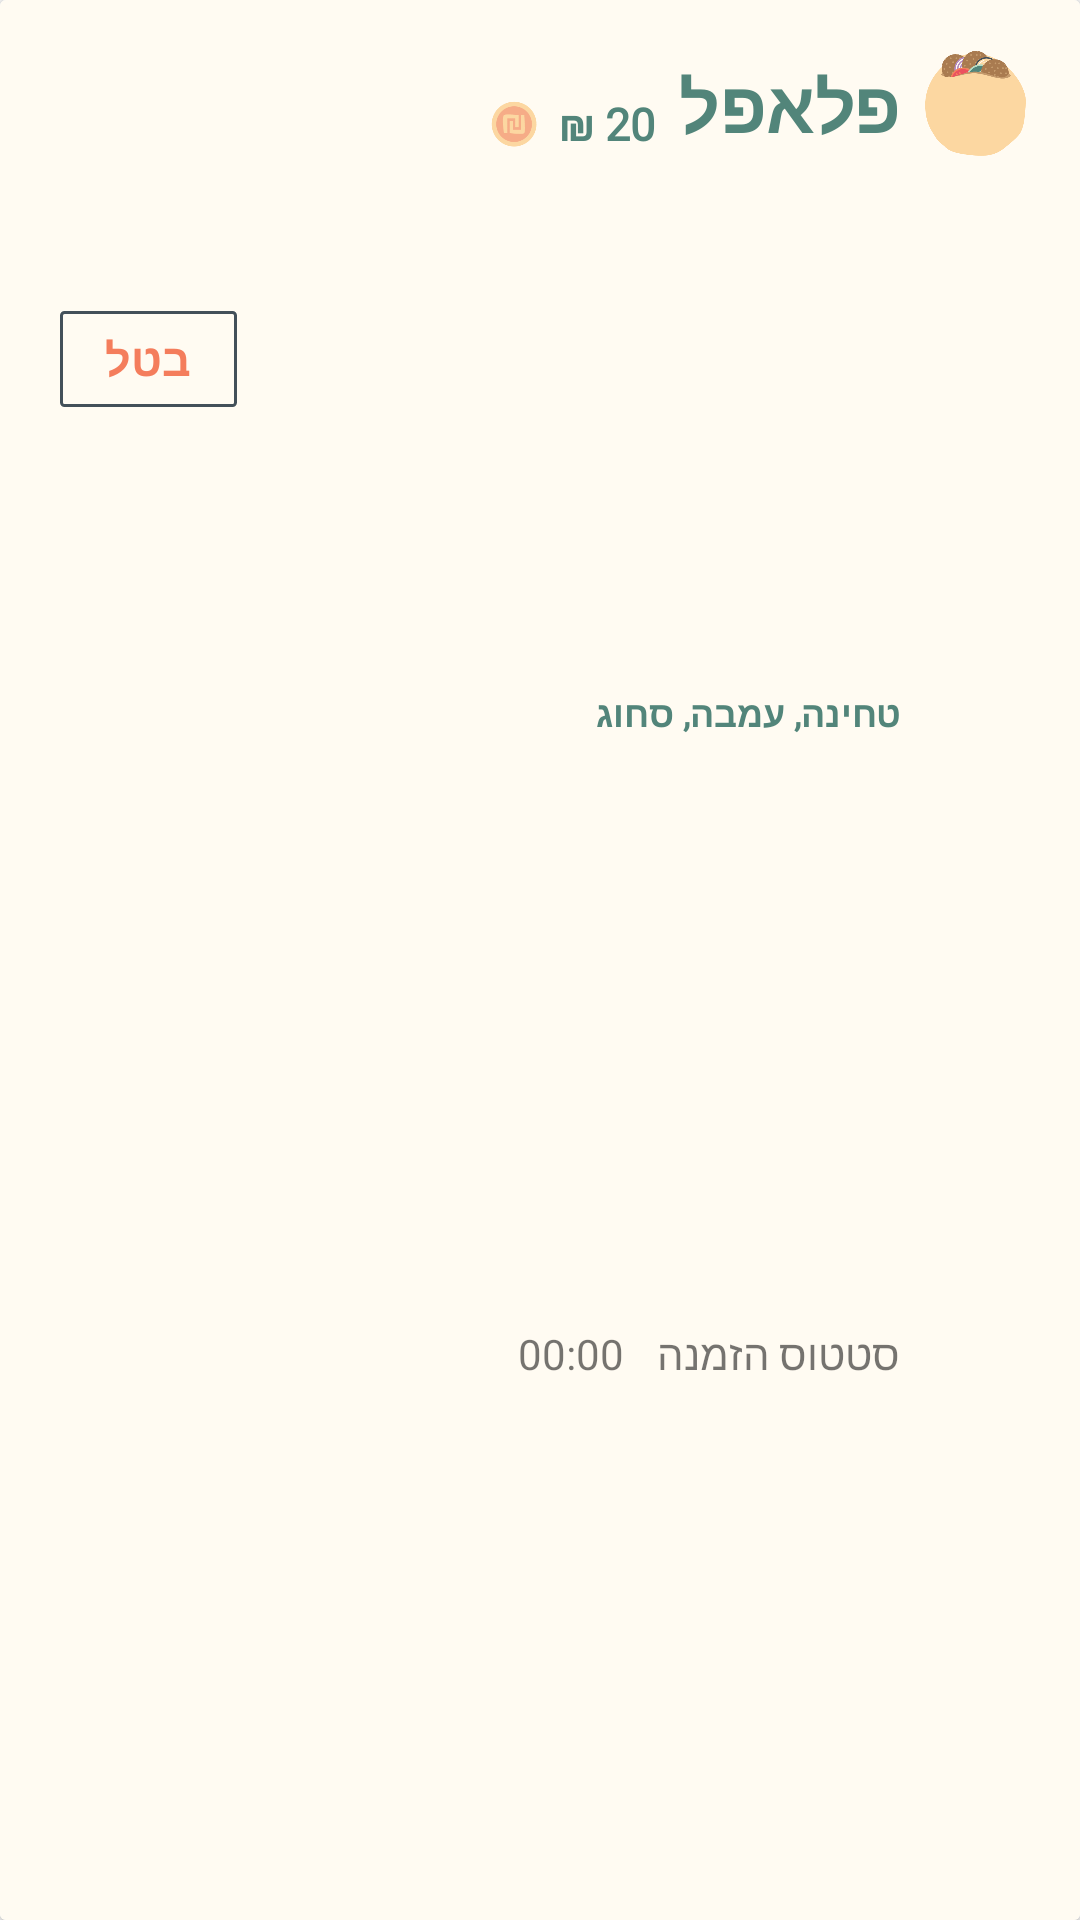

Icon click points for this 1080 x 1920 phone screenshot, format [x,y]:
cash: [514,124]
pita full no margin: [975,103]
